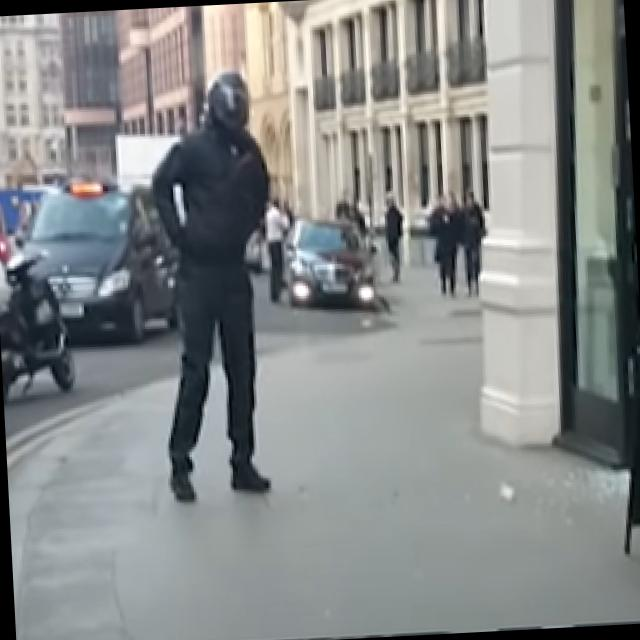person: (144, 70, 286, 503)
